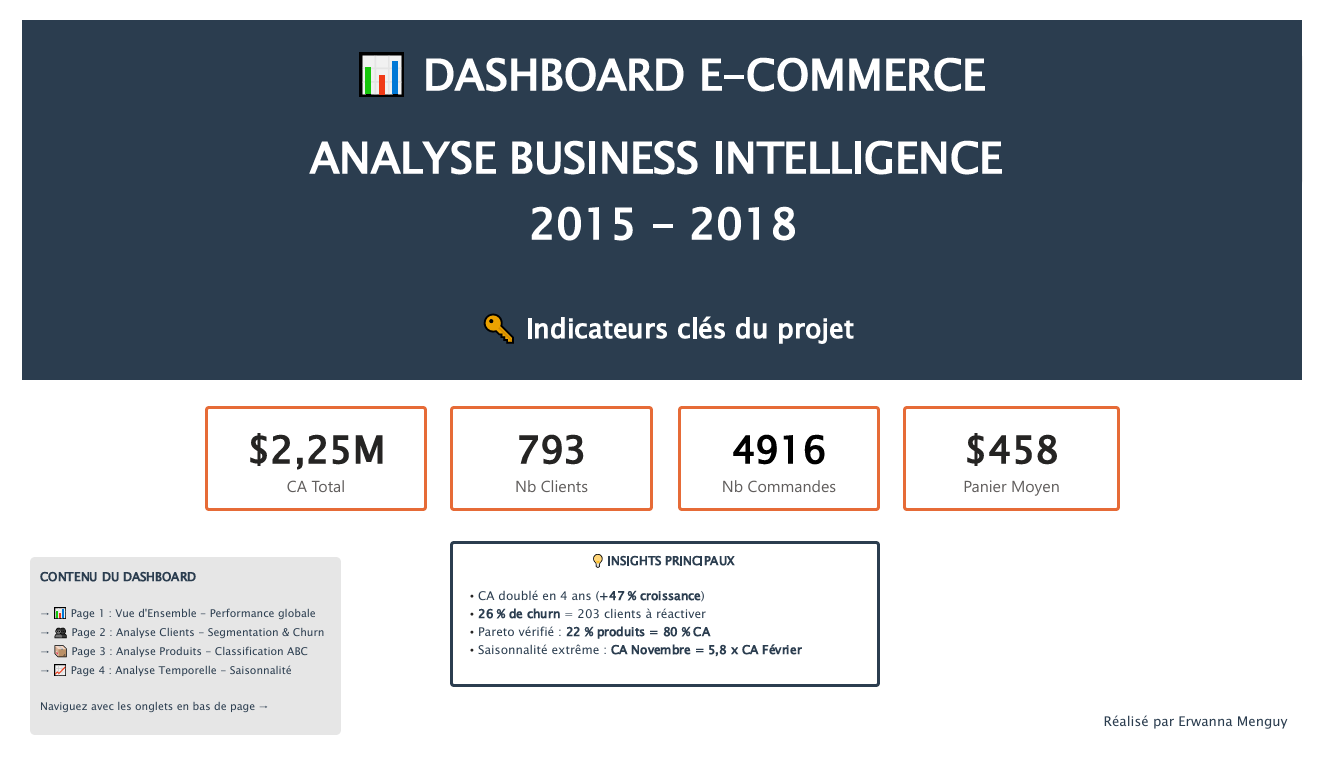

What the dashboard file says about the page in this screenshot:
{"tool":"powerbi","page":{"name":"Accueil","canvas":[1280,720],"ordinal":0},"visuals":[{"type":"textbox","box":[0,0,1280,360],"z":0},{"type":"card","fields":{"Values":["MESURE.CA Total"]},"box":[181.8,384.8,222.6,105.5],"z":1000},{"type":"card","fields":{"Values":["MESURE.Nb Clients"]},"box":[426.5,384.8,203.1,105.5],"z":2000},{"type":"card","fields":{"Values":["MESURE.Nb Commandes"]},"box":[655.3,384.8,201.3,105.5],"z":3000},{"type":"card","fields":{"Values":["MESURE.Panier Moyen"]},"box":[880.5,384.8,216.4,105.5],"z":4000},{"type":"textbox","box":[1070.2,684.5,204.8,35.5],"z":5000},{"type":"textbox","box":[7.1,535.6,311.2,178.2],"z":10000},{"type":"textbox","box":[426.5,519.6,430,146.3],"z":10001}]}

Visuals, with their boxes in screenshot pixels (x1, y1, x2, y2), scaled from the page's 1280x720 canvas onto the 1323x765 screenshot:
textbox: (0,0,1322,382)
card - MESURE.CA Total: (188,409,418,521)
card - MESURE.Nb Clients: (441,409,651,521)
card - MESURE.Nb Commandes: (677,409,885,521)
card - MESURE.Panier Moyen: (910,409,1134,521)
textbox: (1106,727,1318,764)
textbox: (7,569,329,758)
textbox: (441,552,885,708)
